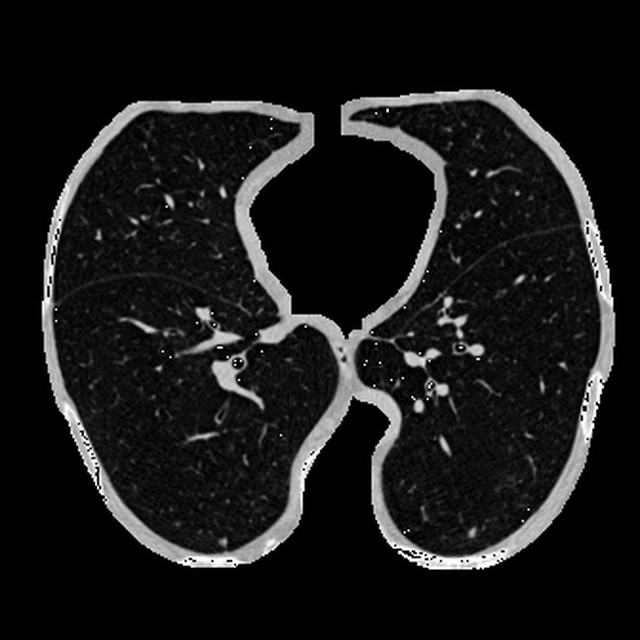PN: (469, 528, 476, 535)
